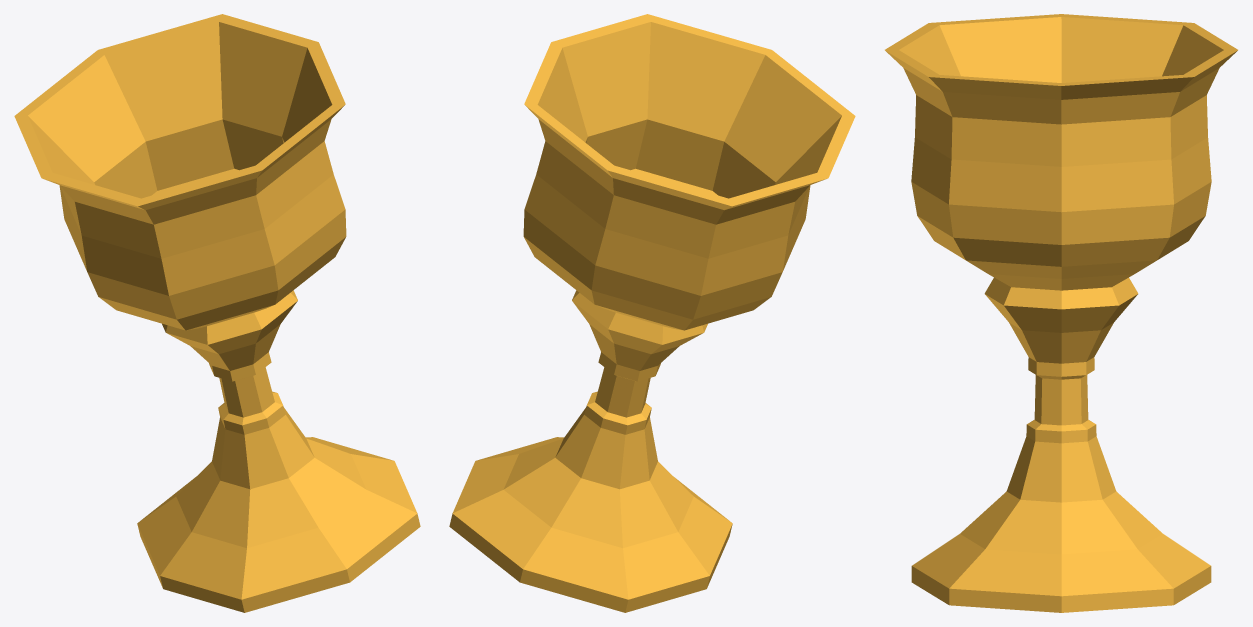
Rendered from chalice.glb.
The picture shows the model from 3 angles, left to right: view 1: azimuth 30°, elevation 25°; view 2: azimuth 150°, elevation 25°; view 3: azimuth 270°, elevation 25°; orthographic projection. The views are drawn at different scales.
Visible parts, largest first — view 1: Chalice_Cube.023; view 2: Chalice_Cube.023; view 3: Chalice_Cube.023.
Boxes of the visible parts, <box> form: Chalice_Cube.023: <box>14,14,420,612</box>; Chalice_Cube.023: <box>449,14,855,612</box>; Chalice_Cube.023: <box>885,14,1237,612</box>.
Size of the model in its own units: 0.3349 by 0.4571 by 0.2679.
1 material, 1 textured.
